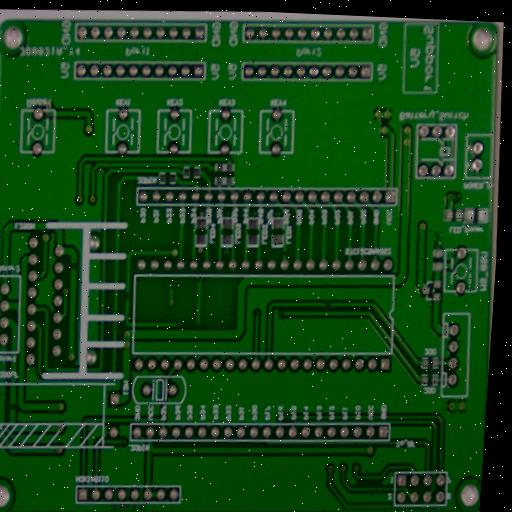open_circuit: (69, 259, 78, 273), (8, 400, 16, 412), (281, 247, 289, 258), (124, 290, 131, 302), (324, 300, 333, 308)
